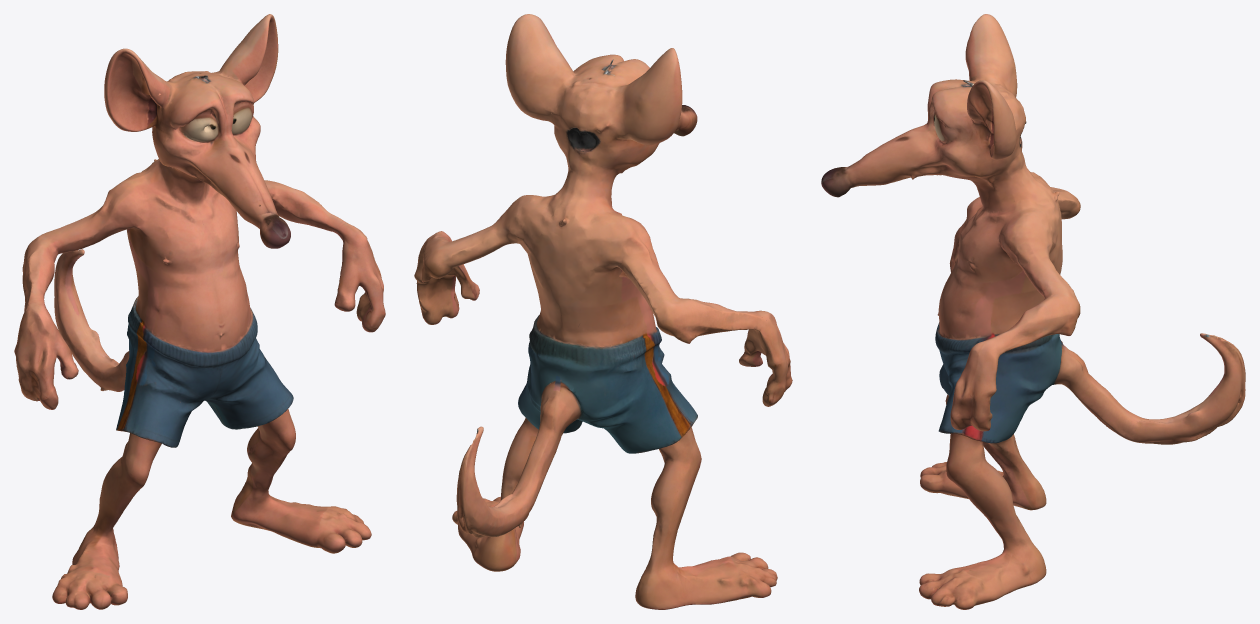
Rendered from Worried_Mouse_1025160012_texture.fbx.
The picture shows the model from 3 angles, left to right: view 1: azimuth 30°, elevation 25°; view 2: azimuth 150°, elevation 25°; view 3: azimuth 270°, elevation 25°; orthographic projection. The views are drawn at different scales.
Visible parts, largest first — view 1: Mesh_0; view 2: Mesh_0; view 3: Mesh_0.
Boxes of the visible parts, left/top/right/bottom form: Mesh_0: left=14, top=14, right=385, bottom=609; Mesh_0: left=414, top=14, right=792, bottom=609; Mesh_0: left=821, top=14, right=1245, bottom=609.
Bounding box in the file's own units: 144 × 200 × 155.
Materials: 1 (1 with a texture image).
